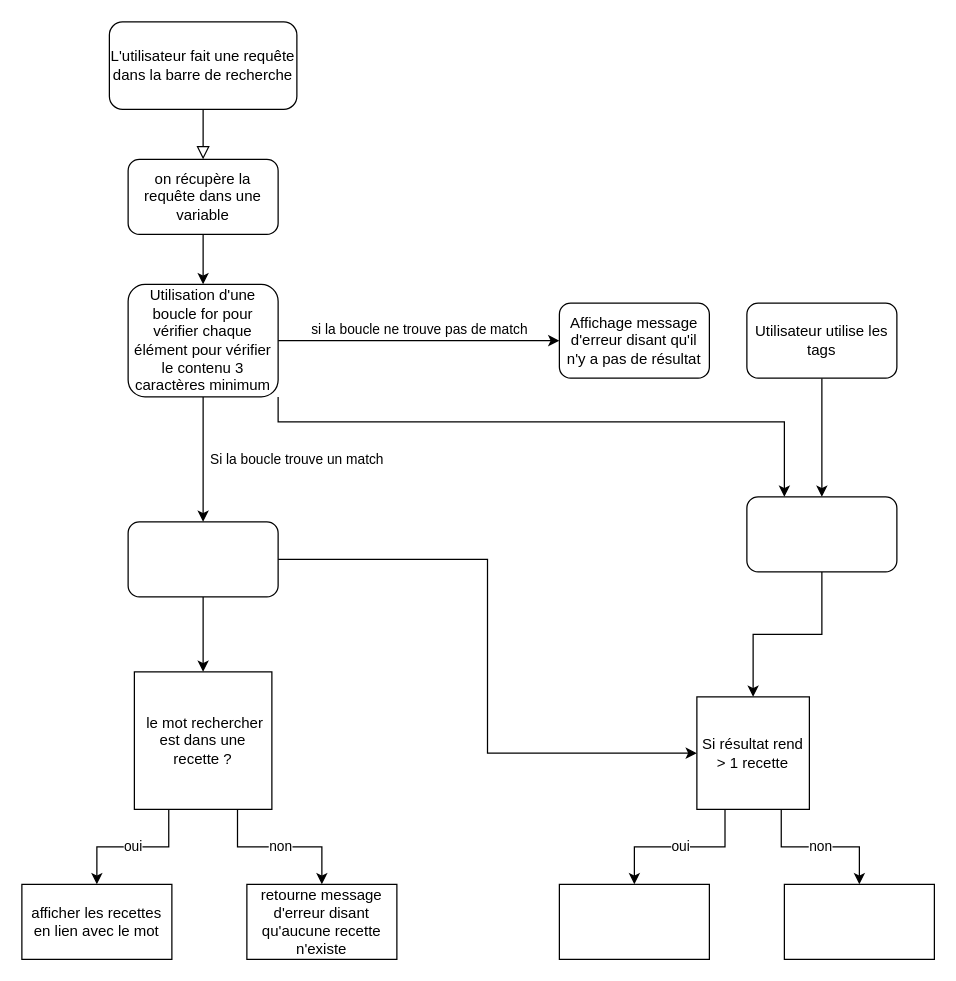
This 956x981 diagram has some shape labels left out. Here are the shapes that lost their labels. From the top down, the centre of each, then its label:
At (x=821, y=534): "Filtre des recettes avec les tags utilisés".
At (x=202, y=559): "Met à jour filterRecipes".
At (x=633, y=921): "Affichage des recettes correspondantes".
At (x=858, y=921): "Affichage message d'erreur".
